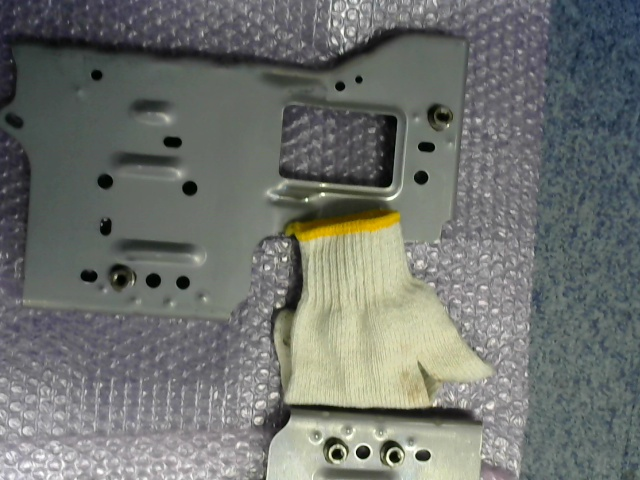dog: (108, 263, 135, 292), (323, 435, 349, 465), (427, 103, 452, 132), (380, 439, 404, 468)
